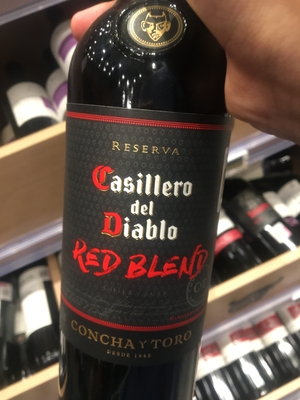casillero del diablo red blend: (53, 36, 237, 400)
